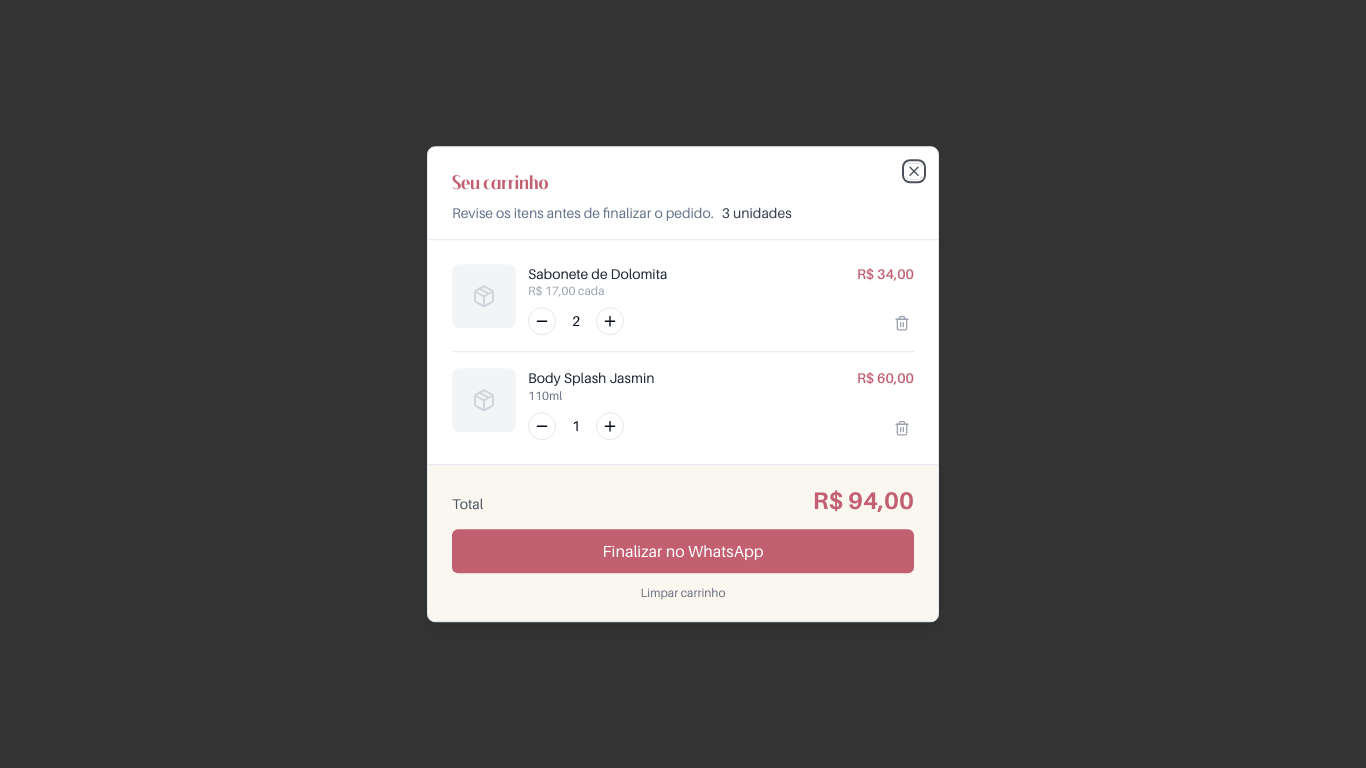
Scenario: CarrinhoModal — ajustes › remover tira só aquele item e recalcula o total
This screenshot has width=1366, height=768.
Click the button named "remover": (902, 324) [890,312,914,336]
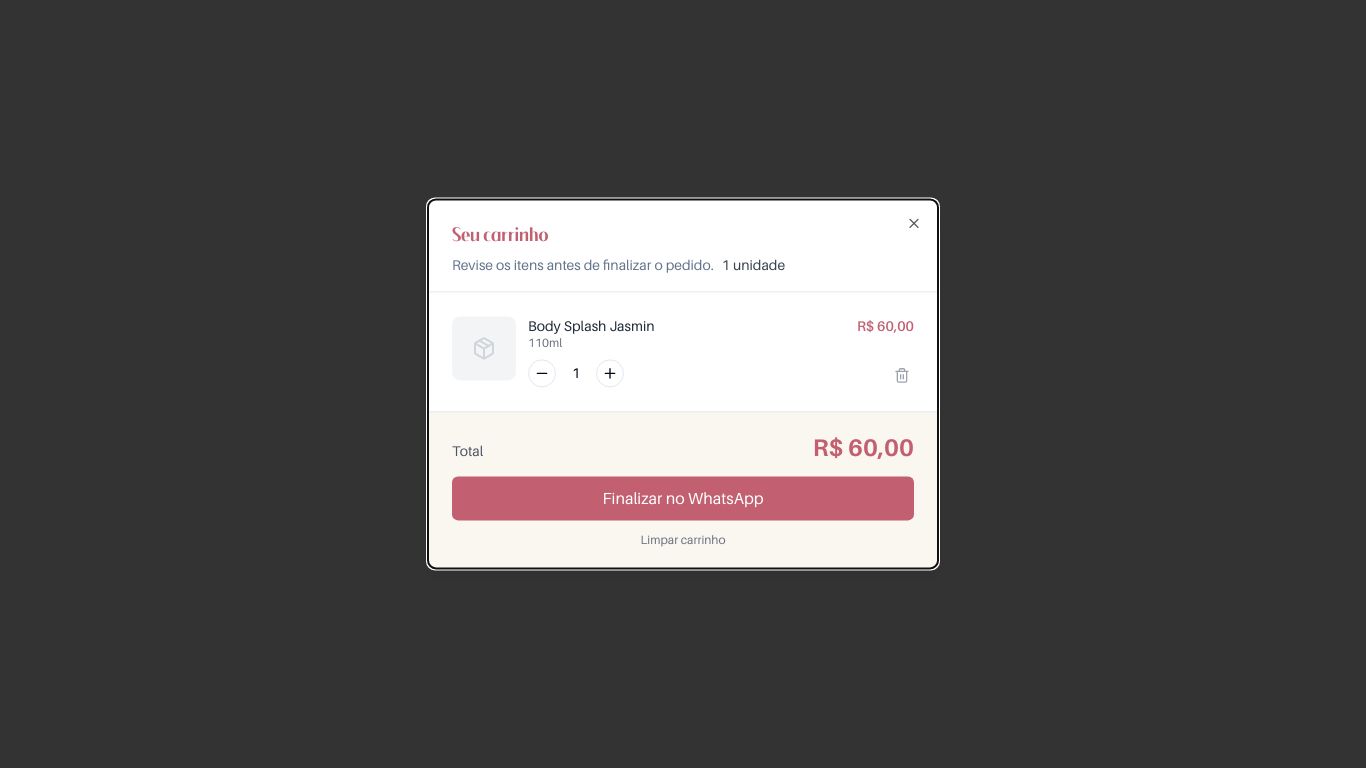
Check: the list item with test id "item-BS01" is shown, box [452,300,914,404]
Check: the list item with test id "item-SAB08" is gone
Check: the text with test id "total" reads "R$ 60,00", box [813,434,914,463]
